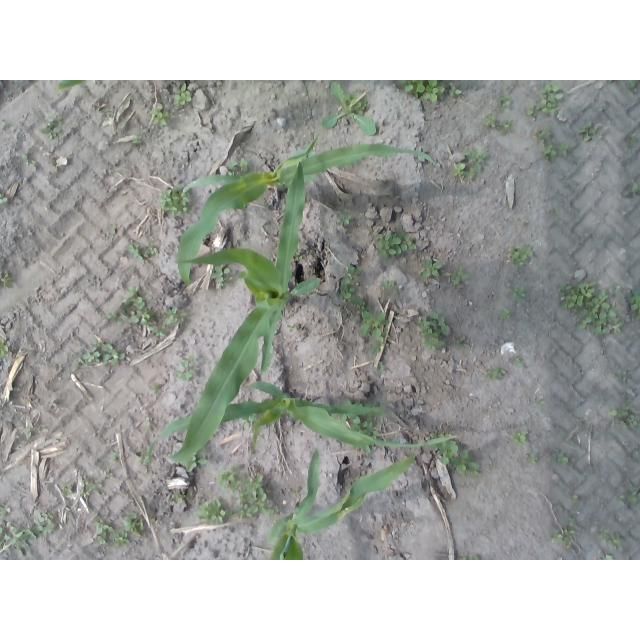Maize: (169, 143, 322, 462), (177, 134, 444, 288), (147, 380, 459, 464), (269, 448, 416, 560), (57, 81, 88, 92)
Weeds: (107, 283, 186, 337), (217, 463, 284, 522), (559, 279, 625, 337), (1, 505, 60, 560), (321, 81, 381, 135), (93, 512, 148, 549), (73, 336, 128, 372), (433, 435, 481, 475), (415, 311, 455, 351), (399, 80, 466, 102), (527, 84, 566, 121), (158, 185, 195, 220), (376, 231, 419, 261), (609, 392, 640, 431), (62, 479, 109, 504), (453, 148, 488, 181), (537, 128, 571, 161), (358, 311, 390, 345), (550, 517, 579, 554), (196, 499, 233, 528), (340, 265, 365, 299), (125, 242, 163, 263), (173, 354, 200, 383), (507, 243, 535, 268), (598, 526, 626, 551), (42, 113, 66, 142), (379, 279, 402, 306), (614, 485, 640, 507), (172, 81, 193, 107), (579, 120, 600, 145), (418, 257, 442, 278), (351, 416, 377, 433), (210, 266, 231, 287), (150, 103, 170, 125), (512, 430, 537, 447), (187, 458, 212, 475), (450, 266, 470, 287), (495, 89, 514, 108), (21, 153, 39, 173), (549, 450, 571, 466), (484, 366, 509, 380), (229, 158, 250, 174), (169, 491, 187, 509), (628, 288, 640, 313), (455, 335, 475, 350), (509, 354, 527, 370), (626, 135, 639, 157), (338, 215, 358, 229), (623, 182, 640, 198), (484, 113, 499, 131), (618, 371, 633, 389), (1, 336, 12, 360), (1, 273, 18, 287), (147, 384, 165, 397), (500, 120, 512, 137), (527, 452, 541, 465), (352, 298, 369, 308), (513, 287, 525, 300), (503, 308, 514, 321), (111, 450, 121, 463), (625, 81, 639, 90), (287, 323, 298, 334), (555, 206, 565, 218), (292, 487, 304, 497), (377, 362, 387, 374), (601, 553, 617, 560), (24, 429, 34, 440), (370, 347, 382, 356), (133, 134, 143, 143), (460, 552, 469, 561), (538, 395, 546, 405), (572, 494, 580, 504), (241, 419, 249, 429), (0, 193, 8, 203), (296, 252, 305, 260), (521, 219, 531, 226), (474, 556, 483, 561)
